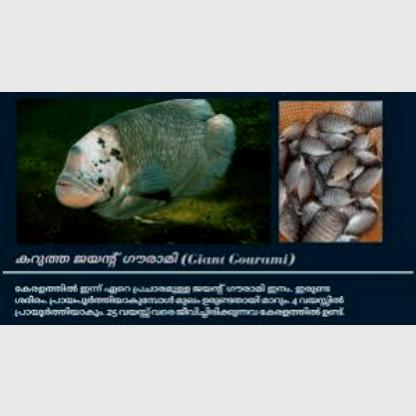gurame: (51, 100, 241, 222)
